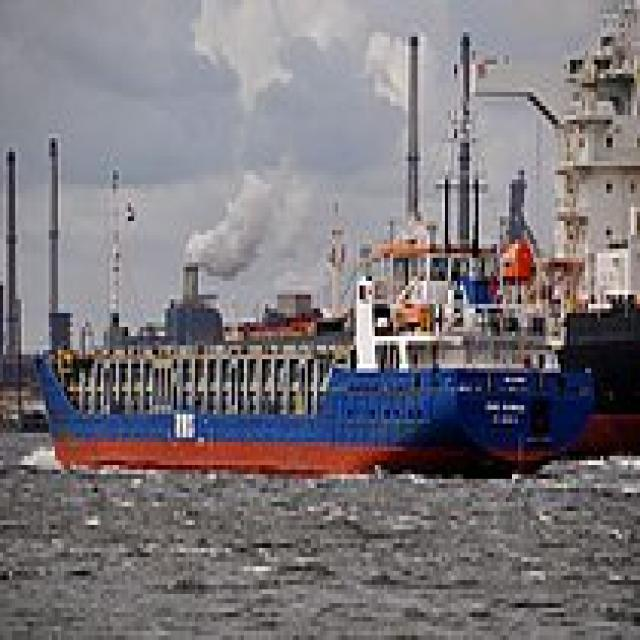Cargo: (28, 216, 594, 479)
